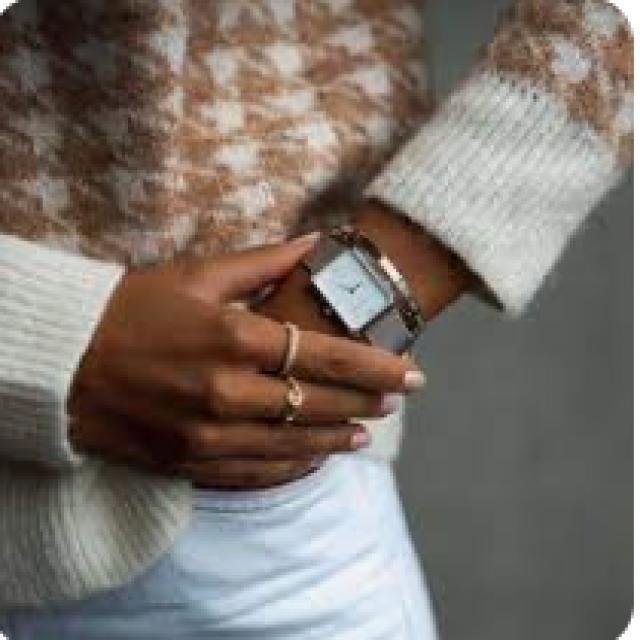Watch: (298, 235, 426, 353)
